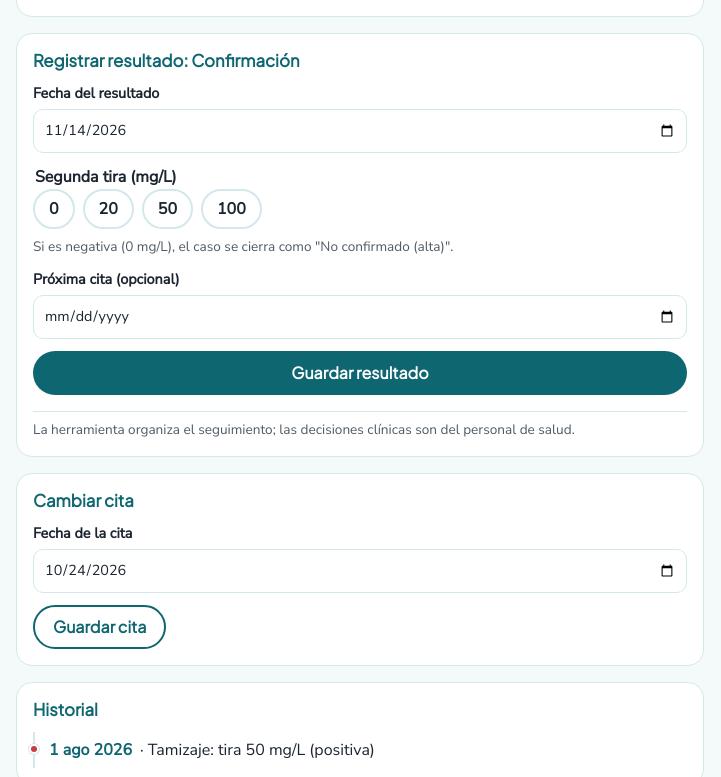
Scenario: Ficha de seguimiento (HU02) › muestra los errores sin guardar
(page scrolled)
Expected: the heading "Registrar resultado: Confirmación" is shown, [33, 50, 300, 71]
Step 1. Click the button "Guardar resultado" → (360, 373), box [33, 351, 687, 395]
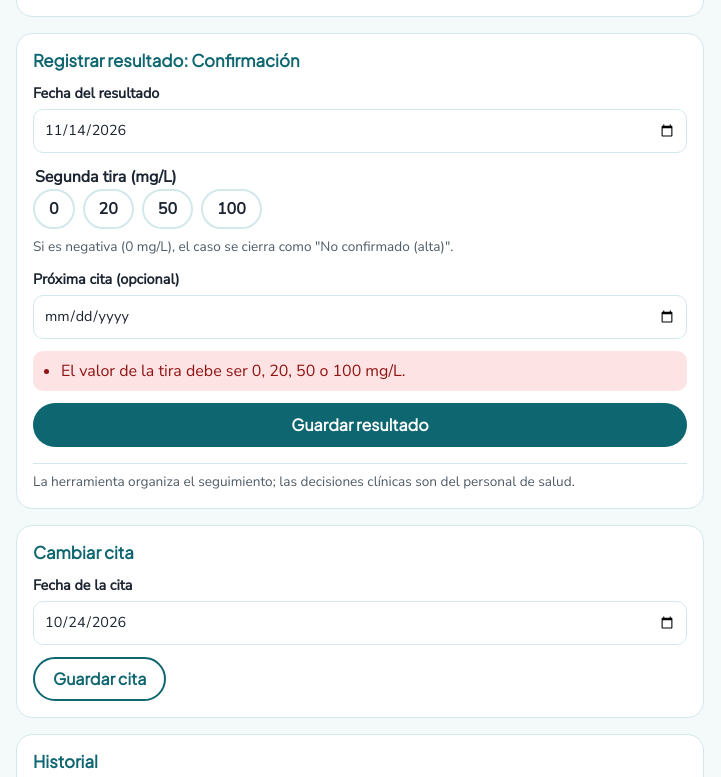
Now the message reads "El valor de la tira debe ser 0, 20, 50 o 100 mg/L.", box [61, 360, 406, 382]
